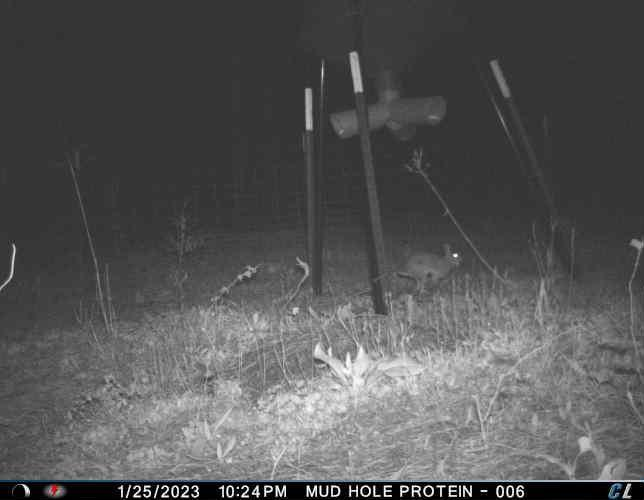Rabbit: (396, 239, 466, 299)
